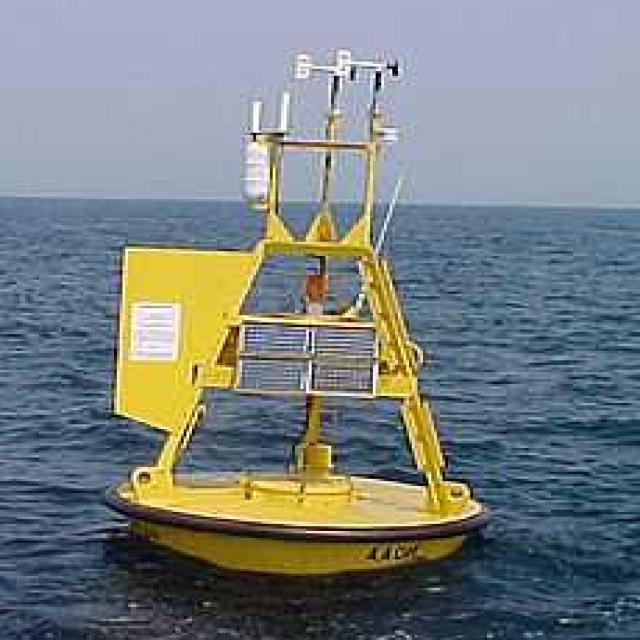buoy: (97, 33, 496, 585)
